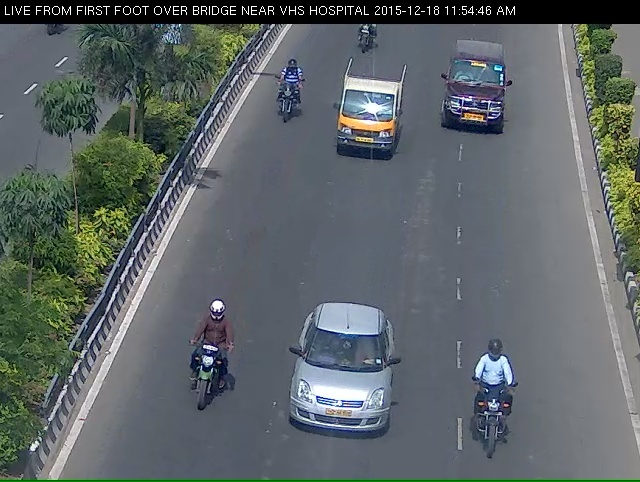Car: (267, 320, 406, 469), (432, 45, 517, 157), (330, 71, 410, 173)
Person: (165, 335, 232, 455), (456, 377, 528, 475), (260, 67, 296, 145), (340, 19, 388, 68)
